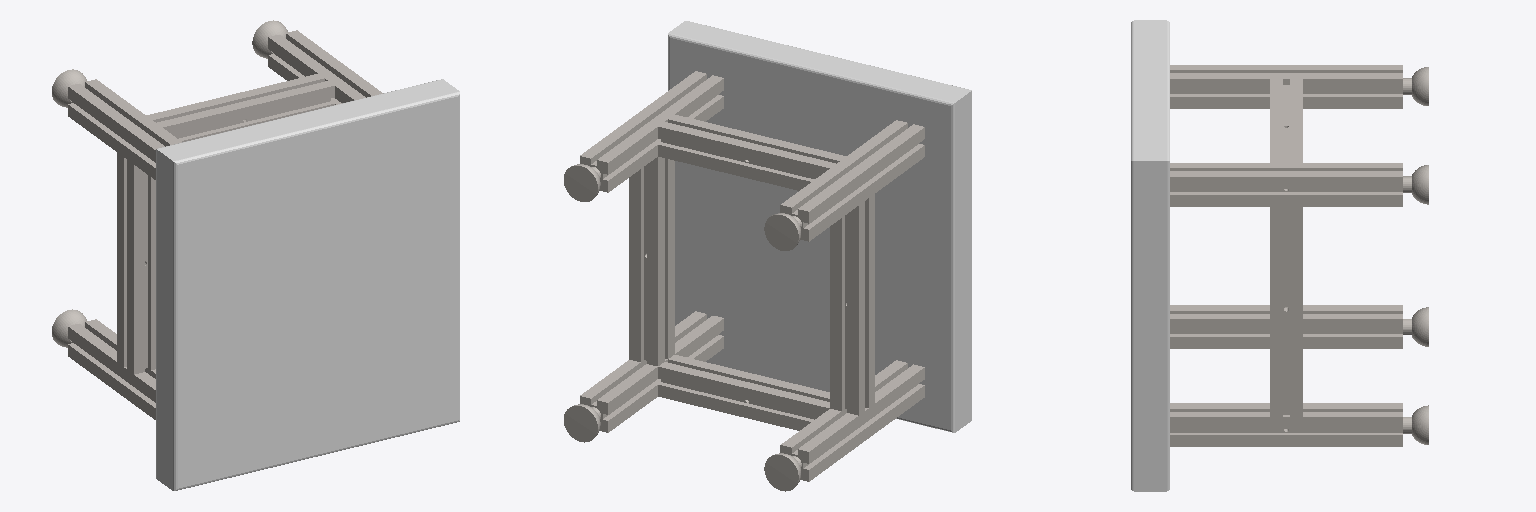
The robot description file, URDF, robot "table_asm_new":
<robot
  name="table_asm_new">
  <link
    name="base_link">
    <inertial>
      <origin
        xyz="-1.18488588798473E-17 0.0599999999999999 -1.16353639732293E-16"
        rpy="0 0 0" />
      <mass
        value="131.821027710396" />
      <inertia
        ixx="0"
        ixy="0"
        ixz="0"
        iyy="0"
        iyz="0"
        izz="0" />
    </inertial>
    <visual>
      <origin
        xyz="0 0 0"
        rpy="0 0 0" />
      <geometry>
        <mesh
          filename="package://table_asm_new/meshes/base_link.STL" />
      </geometry>
      <material
        name="">
        <color
          rgba="0.898039215686275 0.898039215686275 0.898039215686275 1" />
      </material>
    </visual>
    <collision>
      <origin
        xyz="0 0 0"
        rpy="0 0 0" />
      <geometry>
        <mesh
          filename="package://table_asm_new/meshes/base_link.STL" />
      </geometry>
    </collision>
  </link>
  <link
    name="Leg_1">
    <inertial>
      <origin
        xyz="-0.40159 -0.35134 -0.36853"
        rpy="0 0 0" />
      <mass
        value="46.912" />
      <inertia
        ixx="4.9197"
        ixy="0.00010029"
        ixz="0.0016265"
        iyy="6.0432"
        iyz="0.0011454"
        izz="10.22" />
    </inertial>
    <visual>
      <origin
        xyz="0 0 0"
        rpy="0 0 0" />
      <geometry>
        <mesh
          filename="package://table_asm_new/meshes/Leg_1.STL" />
      </geometry>
      <material
        name="">
        <color
          rgba="0.78039 0.76078 0.74118 1" />
      </material>
    </visual>
    <collision>
      <origin
        xyz="0 0 0"
        rpy="0 0 0" />
      <geometry>
        <mesh
          filename="package://table_asm_new/meshes/Leg_1.STL" />
      </geometry>
    </collision>
  </link>
  <joint
    name="Leg1_Surface_Joint"
    type="fixed">
    <origin
      xyz="-0.35 0.12 0.4"
      rpy="1.5708 -1.5708 0" />
    <parent
      link="base_link" />
    <child
      link="Leg_1" />
    <axis
      xyz="0 0 0" />
  </joint>
</robot> 

--- Facts derived from the render (not from the file) ---
The picture shows the robot from 3 angles, left to right: view 1: azimuth 30°, elevation 25°; view 2: azimuth 150°, elevation 25°; view 3: azimuth 270°, elevation 25°; orthographic projection.
Robot: table_asm_new — 2 links, 1 joints (1 fixed); root link base_link; default pose: all joints at 0.
Links seen in each view (by area): view 1: base_link, Leg_1; view 2: base_link, Leg_1; view 3: Leg_1, base_link.
Link boxes in pixels (x1,y1,x2,y2): base_link: (156,79,459,490); Leg_1: (52,20,382,419); base_link: (668,21,971,432); Leg_1: (564,71,924,491); Leg_1: (1170,65,1428,446); base_link: (1131,20,1169,491).
Size in the robot's own frame: 1 by 0.9 by 1.1 metres.
Meshes: 2 distinct files referenced, 2 mesh visuals loaded (2 binary STL).